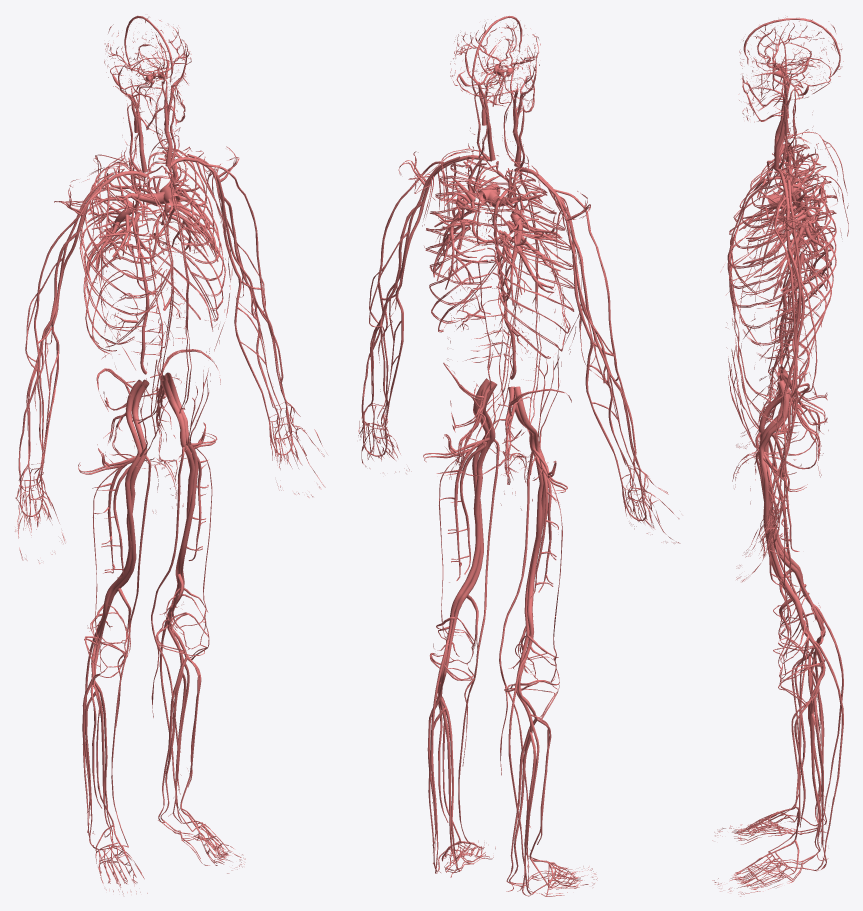
Rendered from body_vessels_v1_lite.glb.
3 views of the same model, side by side, from view 1: azimuth 30°, elevation 25°; view 2: azimuth 150°, elevation 25°; view 3: azimuth 270°, elevation 25° (orthographic). The views are drawn at different scales.
Visible parts, largest first — view 1: body.veins.leg, body.arteries.leg, body.veins.trunk, body.arteries.trunk, body.veins.arm, body.arteries.head, body.arteries.arm, body.veins.head; view 2: body.veins.leg, body.arteries.leg, body.veins.trunk, body.veins.arm, body.arteries.head, body.arteries.trunk, body.arteries.arm, body.veins.head; view 3: body.veins.leg, body.arteries.leg, body.veins.trunk, body.arteries.head, body.arteries.trunk, body.veins.arm, body.arteries.arm, body.veins.head.
Boxes of the visible parts, x1,y1,x2,y2 form: body.veins.leg: (78,321,245,895); body.arteries.leg: (79,331,245,893); body.veins.trunk: (81,147,232,455); body.arteries.trunk: (79,150,226,512); body.veins.arm: (15,90,324,563); body.arteries.head: (86,16,222,279); body.arteries.arm: (15,85,327,563); body.veins.head: (107,15,191,238); body.veins.leg: (423,318,597,896); body.arteries.leg: (424,327,597,894); body.veins.trunk: (425,155,581,439); body.veins.arm: (359,87,679,543); body.arteries.head: (424,21,566,305); body.arteries.trunk: (425,157,577,510); body.arteries.arm: (358,71,680,543); body.veins.head: (452,16,539,242); body.veins.leg: (712,317,843,896); body.arteries.leg: (714,328,828,894); body.veins.trunk: (720,143,836,449); body.arteries.head: (738,16,848,299); body.arteries.trunk: (727,143,836,452); body.veins.arm: (736,80,817,580); body.arteries.arm: (736,72,837,581); body.veins.head: (740,18,841,242).
Size of the model in its own units: 0.664 by 1.7 by 0.2488.
